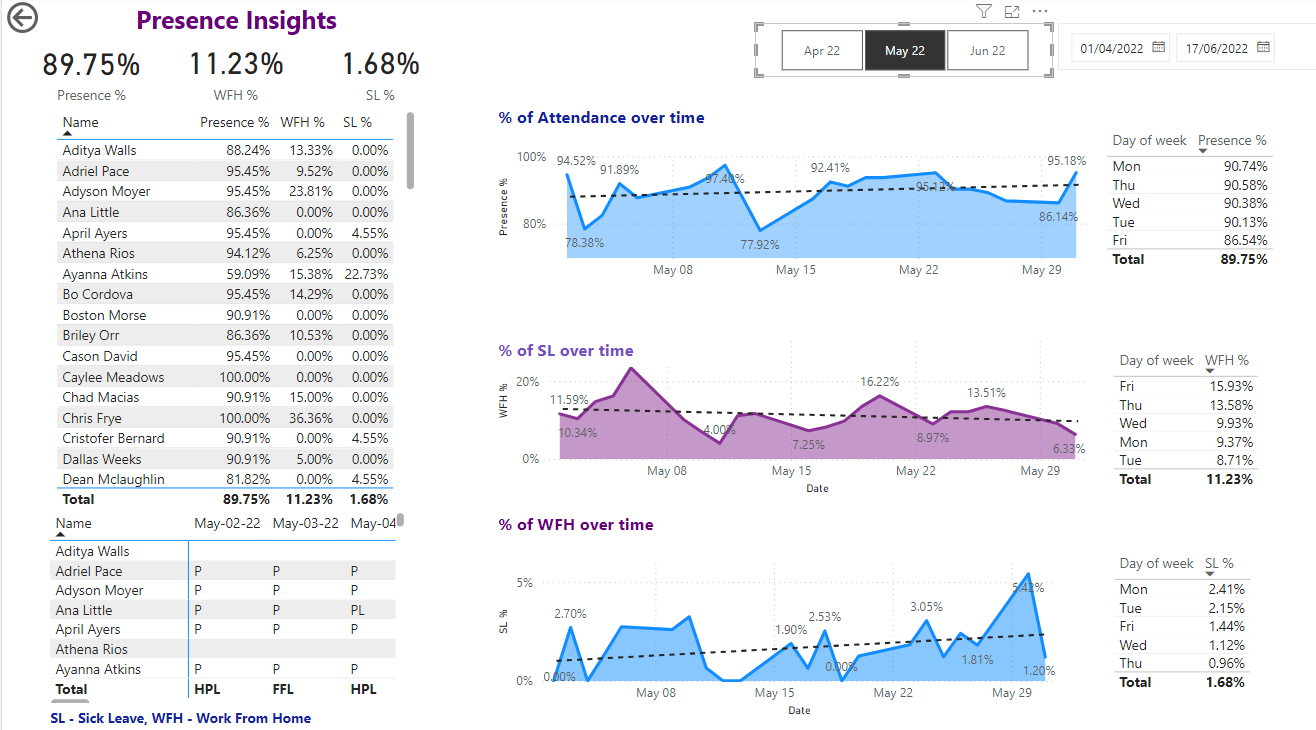

The page's visual inventory and layout, read from the dashboard file:
{"tool":"powerbi","page":{"name":"Presence Overview","canvas":[1280,720],"ordinal":0},"visuals":[{"type":"card","fields":{"Values":["Measure Table.Presence %"]},"box":[16.3,33.7,140.8,74.5],"z":0},{"type":"slicer","fields":{"Values":["Final Data.MONTH"]},"box":[732.4,25.3,289.8,52.5],"z":1000},{"type":"actionButton","box":[0,0,100,40],"z":2000},{"type":"card","fields":{"Values":["Measure Table.WFH %"]},"box":[150.1,36.1,154.8,69.8],"z":3000},{"type":"card","fields":{"Values":["Measure Table.SL %"]},"box":[304.9,36.1,126.8,69.8],"z":4000},{"type":"tableEx","fields":{"Values":["Final Data.Name","Measure Table.Presence %","Measure Table.WFH %","Measure Table.SL %"]},"box":[47.7,106,358.9,395.9],"z":5000},{"type":"textbox","box":[41.9,0,372.4,43.1],"z":6000},{"type":"pivotTable","fields":{"Rows":["Final Data.Name"],"Values":["Min(Final Data.Value)"],"Columns":["Final Data.Date"]},"box":[41.9,495.7,354.9,200.1],"z":7000},{"type":"lineChart","fields":{"Category":["Final Data.Date"],"Y":["Measure Table.Presence %"]},"box":[477.1,140.8,592.3,142],"z":8000},{"type":"lineChart","fields":{"Category":["Final Data.Date"],"Y":["Measure Table.WFH %"]},"box":[477.6,321.9,591.4,166.3],"z":9000},{"type":"lineChart","fields":{"Category":["Final Data.Date"],"Y":["Measure Table.SL %"]},"box":[477.6,535.9,562.2,168.3],"z":10000},{"type":"tableEx","fields":{"Values":["Final Data.Day of week","Measure Table.Presence %"]},"box":[1068.9,124.5,204.3,149.8],"z":11000},{"type":"tableEx","fields":{"Values":["Final Data.Day of week","Measure Table.WFH %"]},"box":[1075.7,338.5,204.3,149.8],"z":12000},{"type":"tableEx","fields":{"Values":["Final Data.Day of week","Measure Table.SL %"]},"box":[1075.7,535.9,204.3,149.8],"z":13000},{"type":"slicer","fields":{"Values":["Final Data.Date"]},"box":[1027.5,25.6,252.5,45.4],"z":14000},{"type":"textbox","box":[477.1,100.1,409.6,40.7],"z":15000},{"type":"textbox","box":[477.1,327,239.7,32.6],"z":16000},{"type":"textbox","box":[477.1,495.7,225.7,32.6],"z":17000},{"type":"textbox","box":[41.9,686.5,296.7,33.7],"z":18000}]}

Visuals, with their boxes in screenshot pixels (x1, y1, x2, y2), scaled from the page's 1280x720 canvas onto the 1316x730 screenshot:
card - Measure Table.Presence %: select_region(17, 34, 162, 110)
slicer - Final Data.MONTH: select_region(753, 26, 1051, 79)
actionButton: select_region(0, 0, 103, 41)
card - Measure Table.WFH %: select_region(154, 37, 313, 107)
card - Measure Table.SL %: select_region(313, 37, 444, 107)
tableEx - Final Data.Name x Measure Table.Presence %: select_region(49, 107, 418, 509)
textbox: select_region(43, 0, 426, 44)
pivotTable - Final Data.Name x Min(Final Data.Value): select_region(43, 503, 408, 705)
lineChart - Final Data.Date x Measure Table.Presence %: select_region(491, 143, 1099, 287)
lineChart - Final Data.Date x Measure Table.WFH %: select_region(491, 326, 1099, 495)
lineChart - Final Data.Date x Measure Table.SL %: select_region(491, 543, 1069, 714)
tableEx - Final Data.Day of week x Measure Table.Presence %: select_region(1099, 126, 1309, 278)
tableEx - Final Data.Day of week x Measure Table.WFH %: select_region(1106, 343, 1315, 495)
tableEx - Final Data.Day of week x Measure Table.SL %: select_region(1106, 543, 1315, 695)
slicer - Final Data.Date: select_region(1056, 26, 1315, 72)
textbox: select_region(491, 101, 912, 143)
textbox: select_region(491, 332, 737, 365)
textbox: select_region(491, 503, 723, 536)
textbox: select_region(43, 696, 348, 729)
